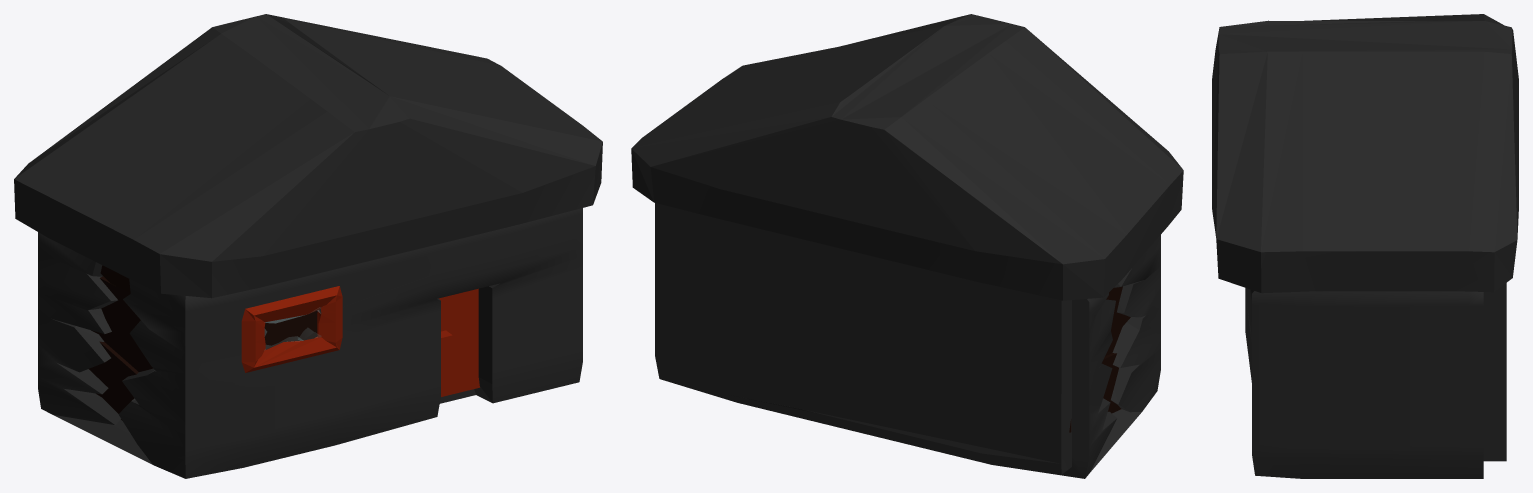
File: home2@out_open.FBX
3 renders of one model, left to right at view 1: azimuth 30°, elevation 25°; view 2: azimuth 150°, elevation 25°; view 3: azimuth 270°, elevation 25°, orthographic. The views are drawn at different scales.
Visible parts, largest first — view 1: Box001, Object001; view 2: Box001, Object002; view 3: Box001, Object002.
Boxes of the visible parts, x1,y1,x2,y2 form: Box001: (14,14,602,478); Object001: (439,288,479,396); Box001: (631,14,1183,478); Object002: (659,204,1071,474); Box001: (1212,14,1518,478); Object002: (1483,283,1506,461).
Bounding box in the file's own units: 99.88 × 66.28 × 54.23.
